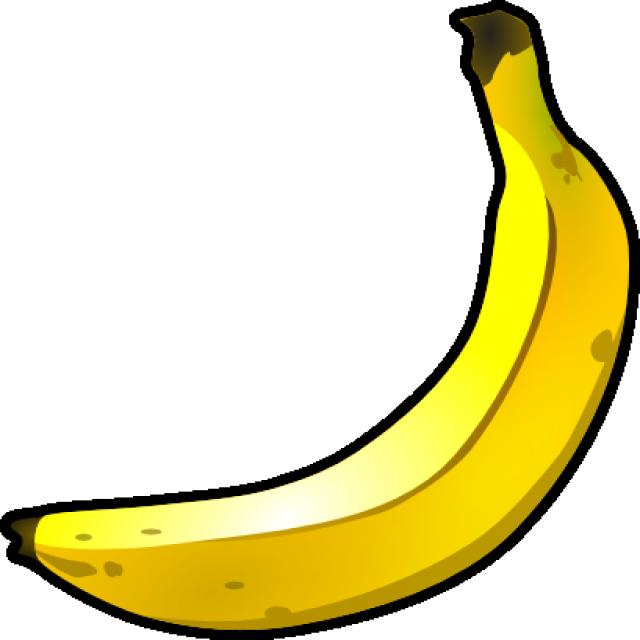banana: (8, 14, 636, 627)
